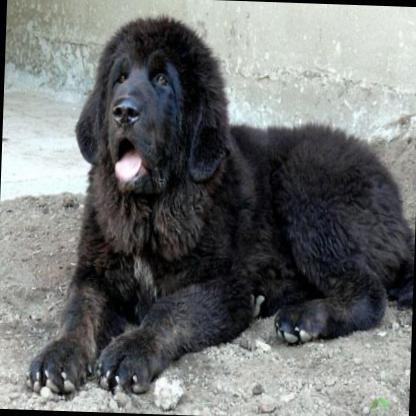Tibetan_mastiff: (26, 12, 416, 406)
